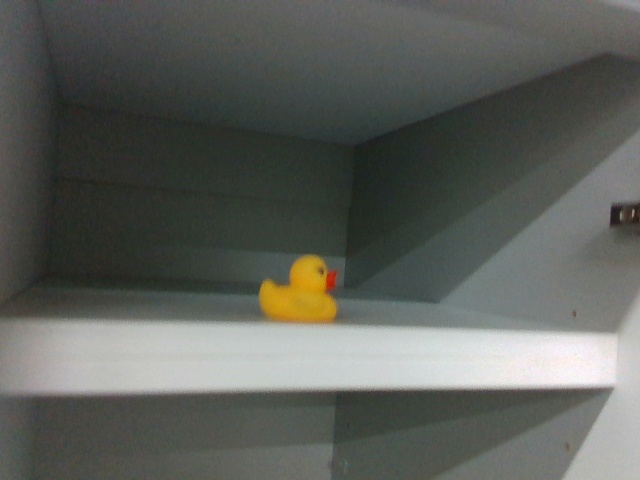duck: (255, 253, 345, 325)
